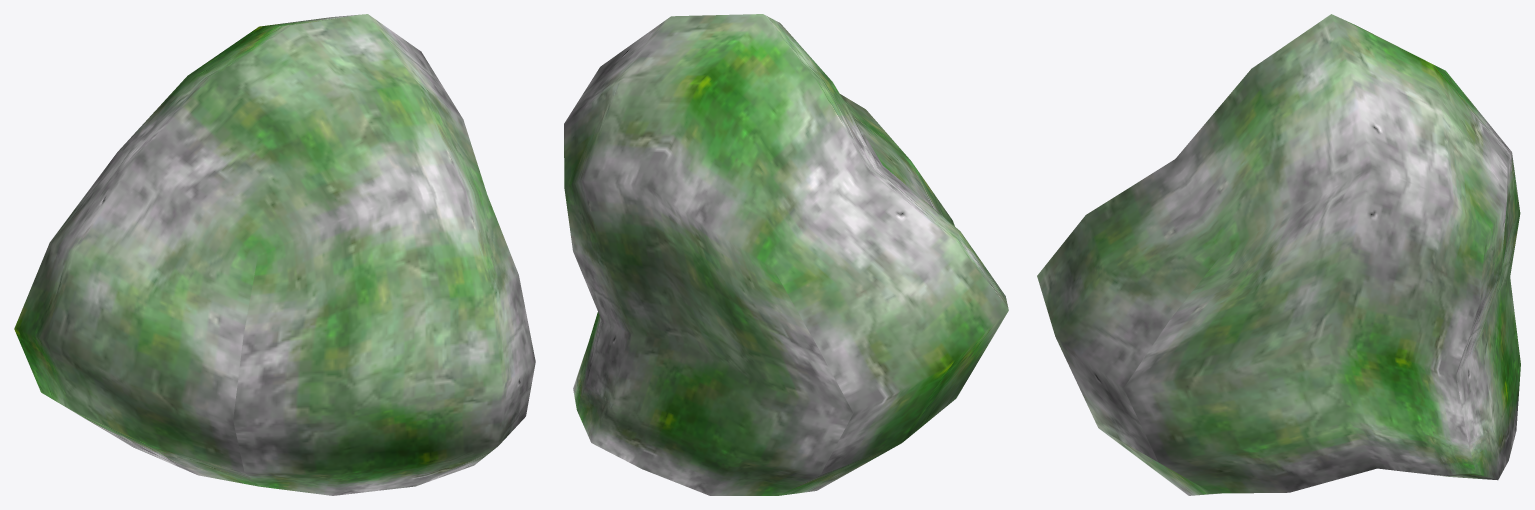
File: INST_HTOWN_ROCKC.fbx
3 views of the same model, side by side, from view 1: azimuth 30°, elevation 25°; view 2: azimuth 150°, elevation 25°; view 3: azimuth 270°, elevation 25° (orthographic). The views are drawn at different scales.
Parts seen in each view (by area): view 1: INST_HTOWN_ROCKC; view 2: INST_HTOWN_ROCKC; view 3: INST_HTOWN_ROCKC.
Part boxes in pixels (<box>): INST_HTOWN_ROCKC: <box>14,14,535,495</box>; INST_HTOWN_ROCKC: <box>564,14,1008,495</box>; INST_HTOWN_ROCKC: <box>1037,14,1520,495</box>.
Bounding box in the file's own units: 21129 × 21129 × 21129.
1 material, 1 textured.
